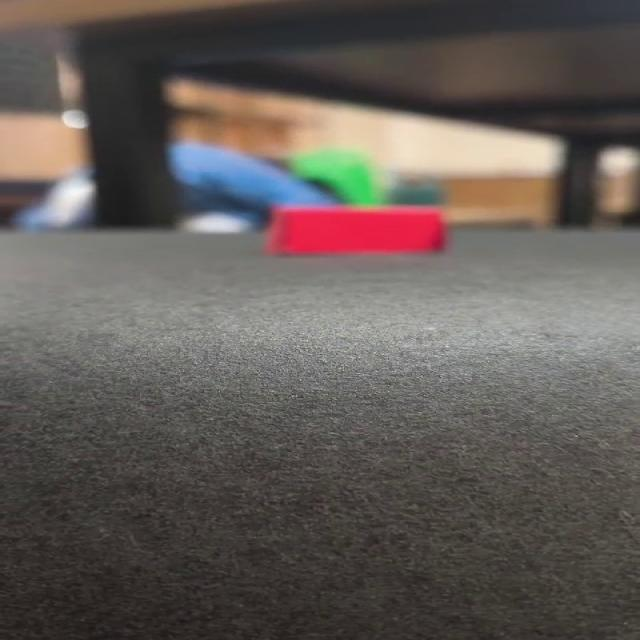red block: (264, 203, 447, 256)
